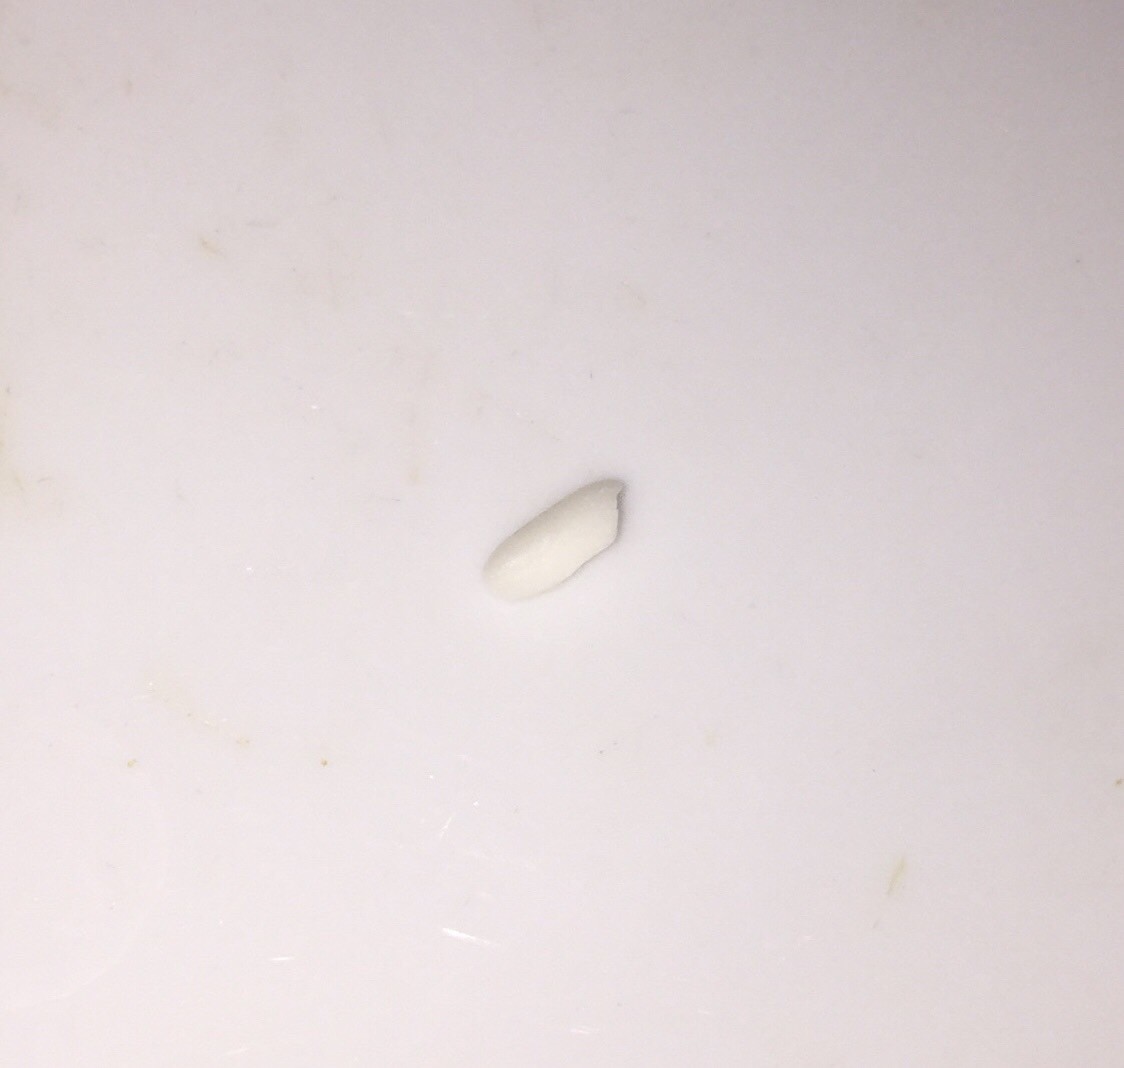Gao Nep Sap: (476, 462, 647, 642)
